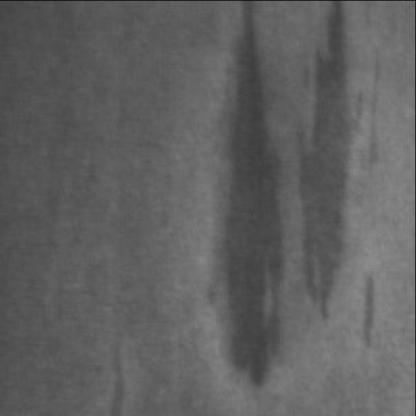inclusion: (204, 6, 295, 393), (295, 6, 364, 333), (108, 329, 140, 416), (360, 275, 387, 353)
